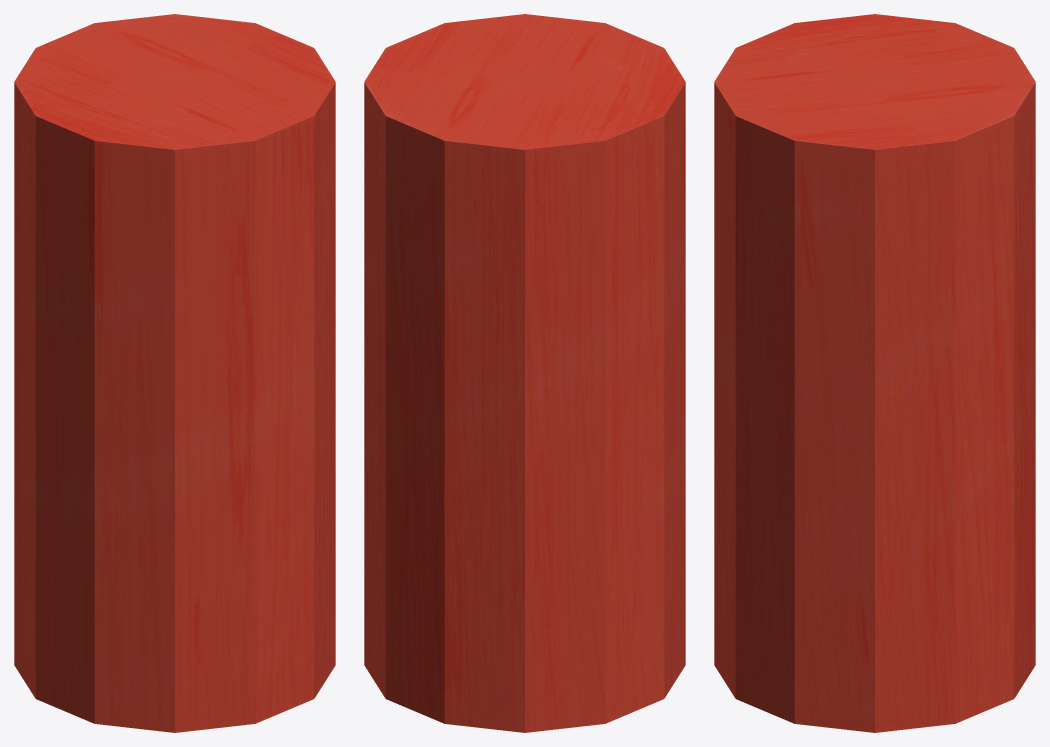
The model's file is CylinderBlock_Red.fbx.
The picture shows the model from 3 angles, left to right: view 1: azimuth 30°, elevation 25°; view 2: azimuth 150°, elevation 25°; view 3: azimuth 270°, elevation 25°; orthographic projection.
Visible parts, largest first — view 1: Cylinder.016; view 2: Cylinder.016; view 3: Cylinder.016.
Boxes of the visible parts, bbox=[...] form: Cylinder.016: bbox=[14, 14, 335, 732]; Cylinder.016: bbox=[364, 14, 685, 732]; Cylinder.016: bbox=[714, 14, 1035, 732].
Bounding box in the file's own units: 100 × 200 × 100.
